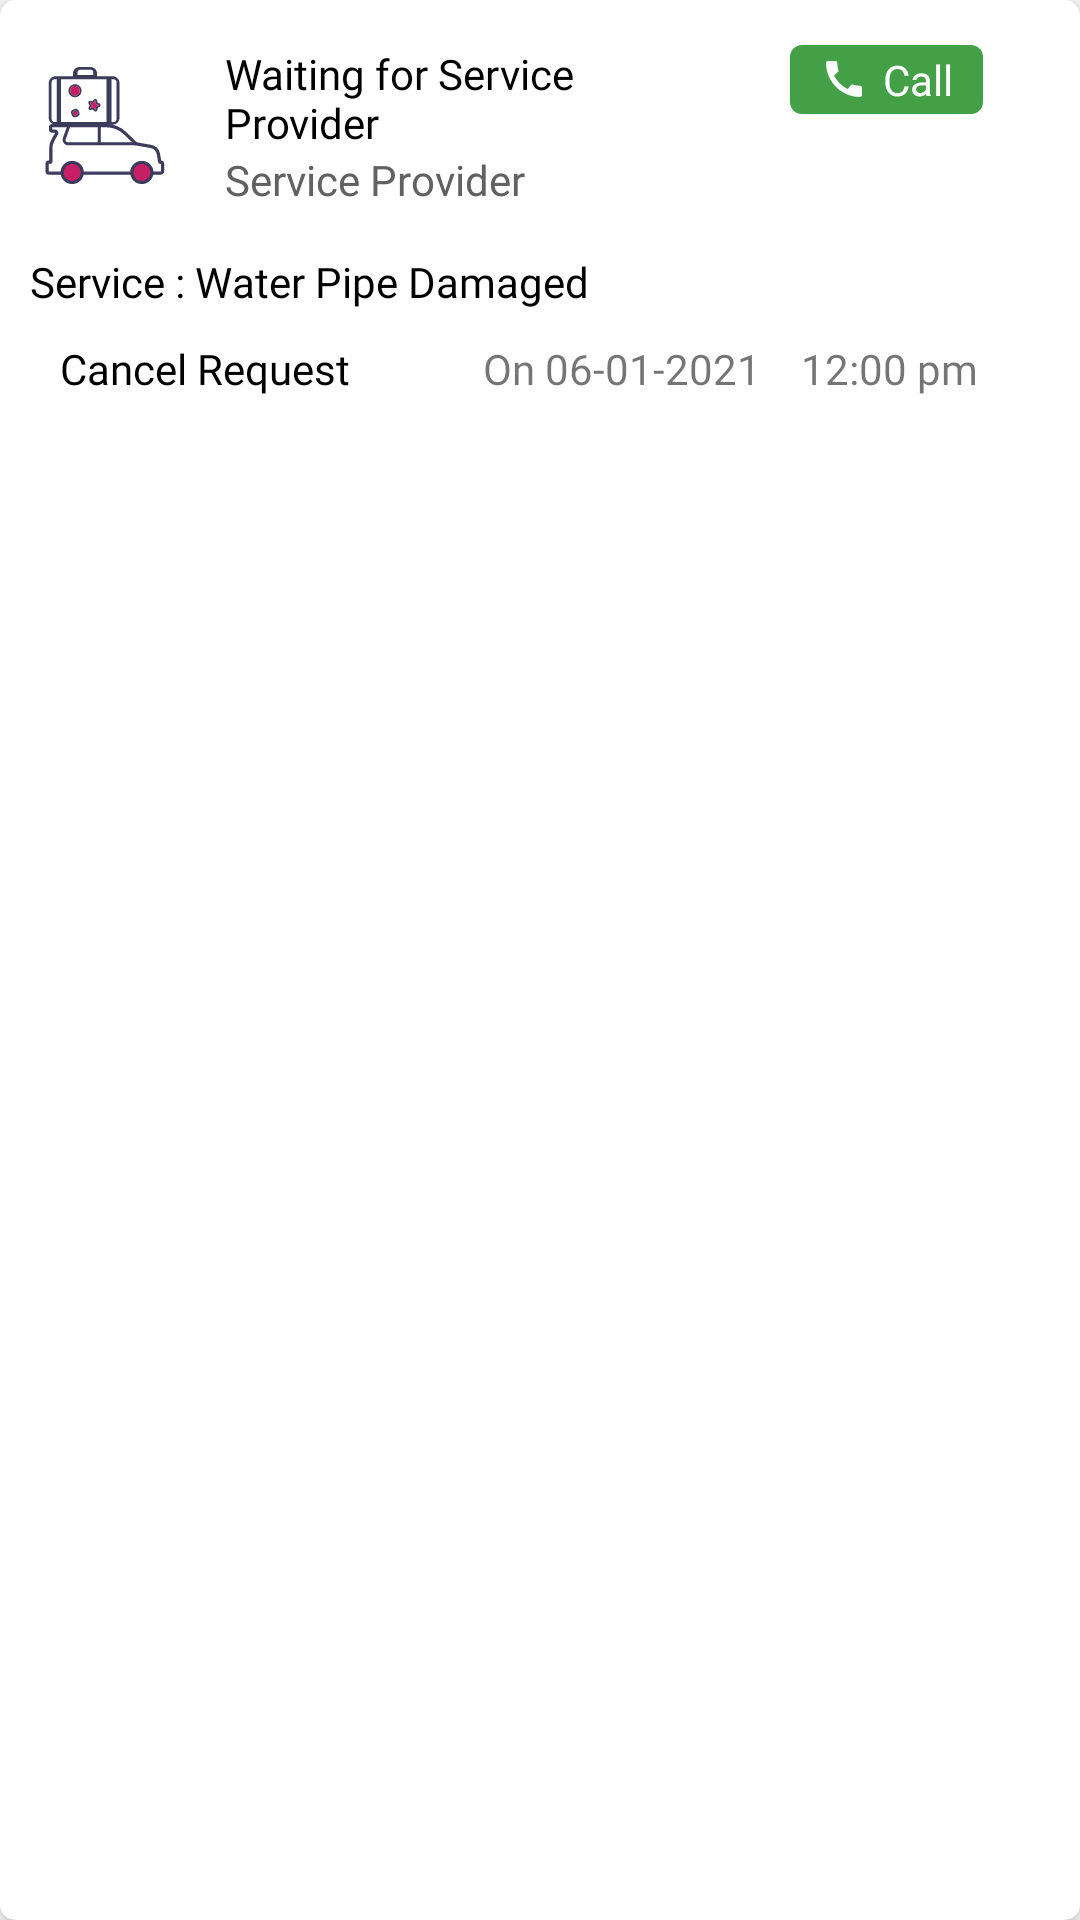

Named icons in this screenshot (1080w x 1920h) and their bounding boxes, (x1,y1,x2,y2):
transport: (45,67,165,184)
